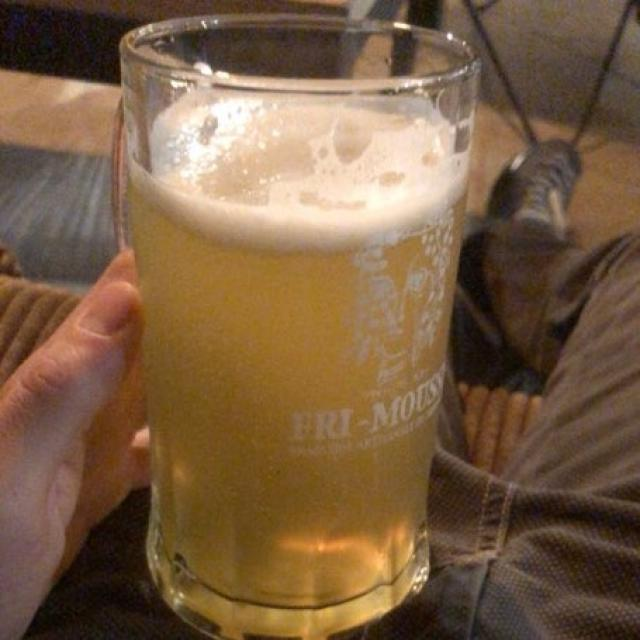beer: (132, 91, 451, 582)
